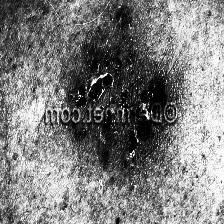Toxin: (42, 22, 180, 102), (53, 127, 173, 180)
